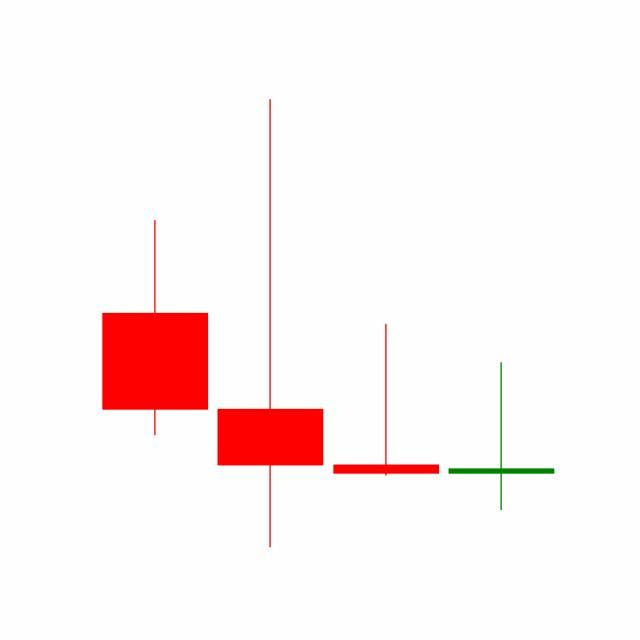Gravestone Doji: (329, 323, 445, 479)
